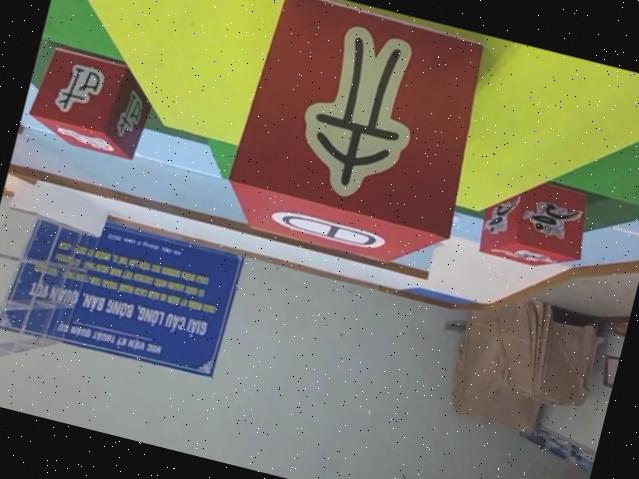R1: (472, 166, 599, 279)
R2 Fake: (212, 0, 501, 279)
R2 Real: (20, 39, 163, 166)
